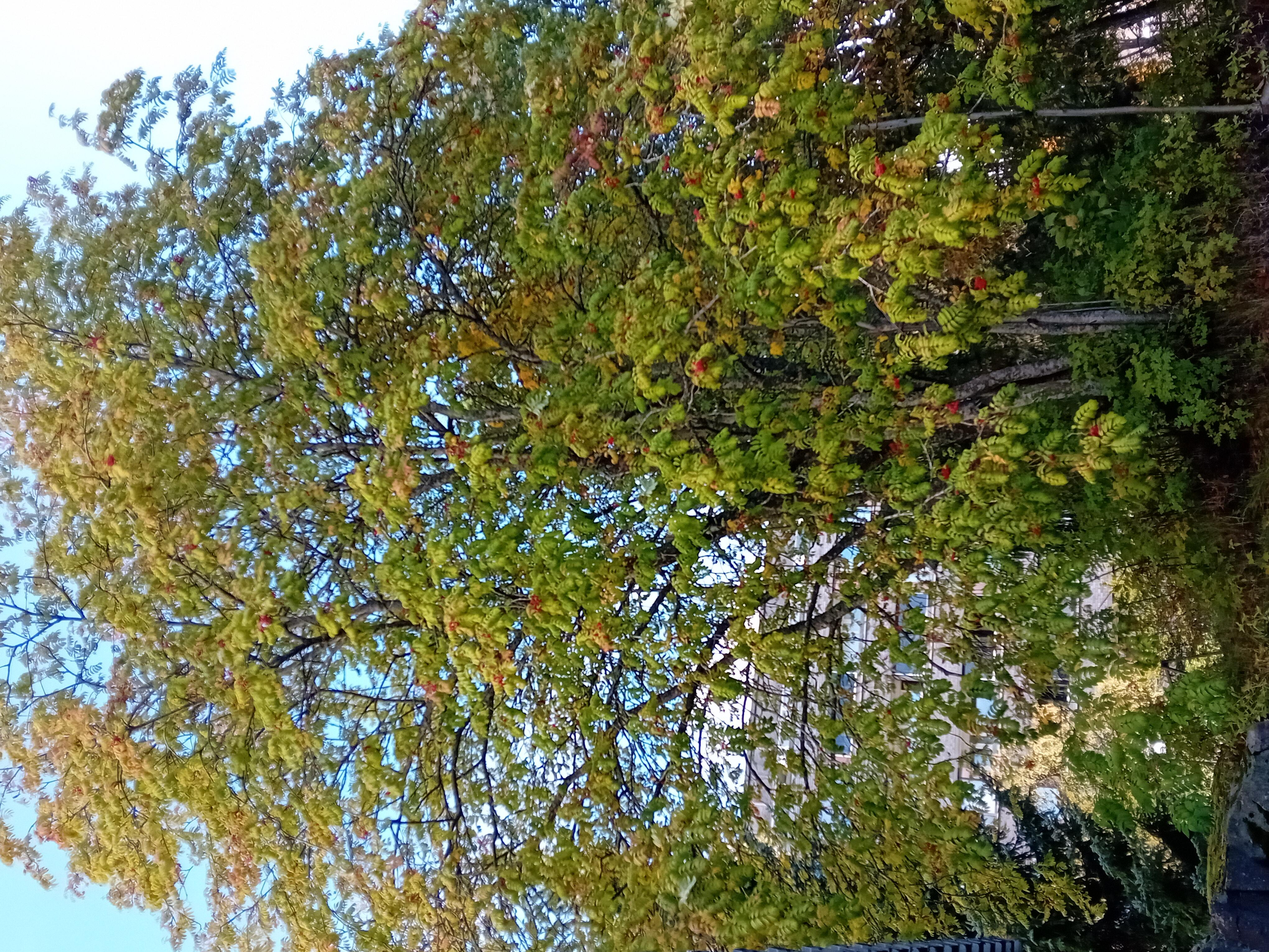Rowan: (2, 0, 1267, 920), (479, 227, 1101, 878)
